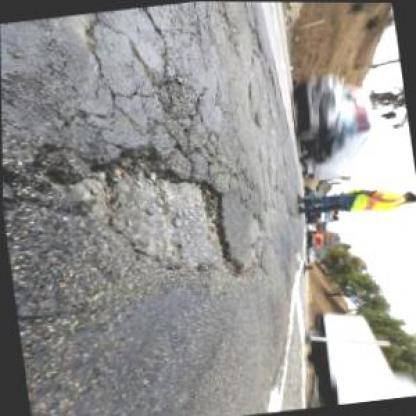pothole: (90, 131, 247, 292), (1, 140, 93, 227), (241, 214, 272, 271)
